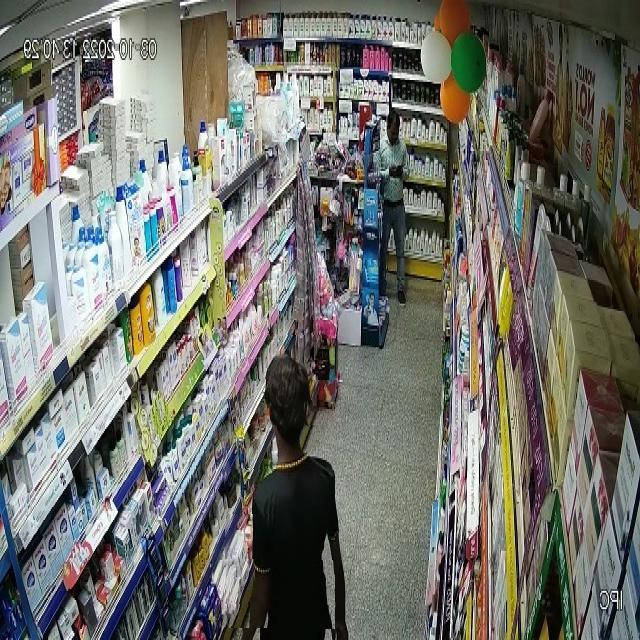Normal: (220, 312, 335, 629)
